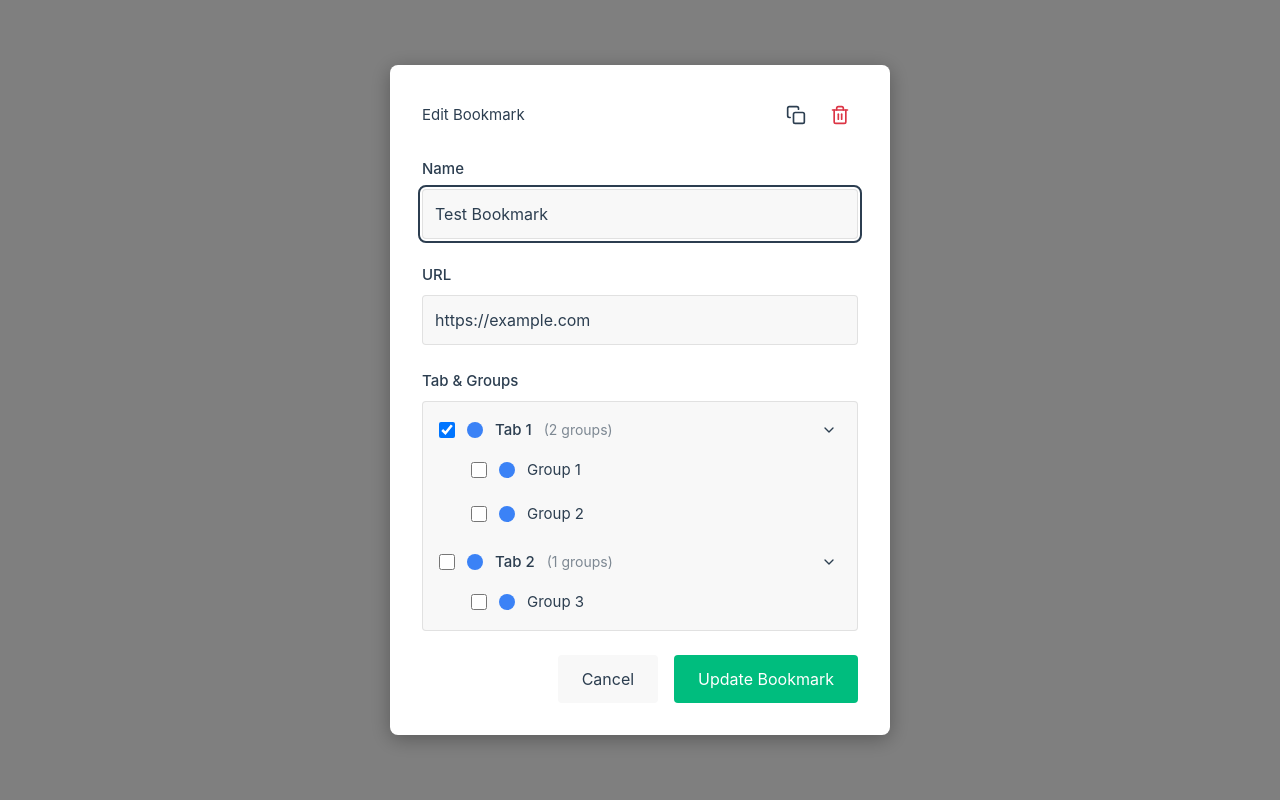
EditBookmarkForm › clears error when cancel is clicked
// Trigger validation error
Clear the field with id "bookmark-name": (640, 214) [422,189,858,239]
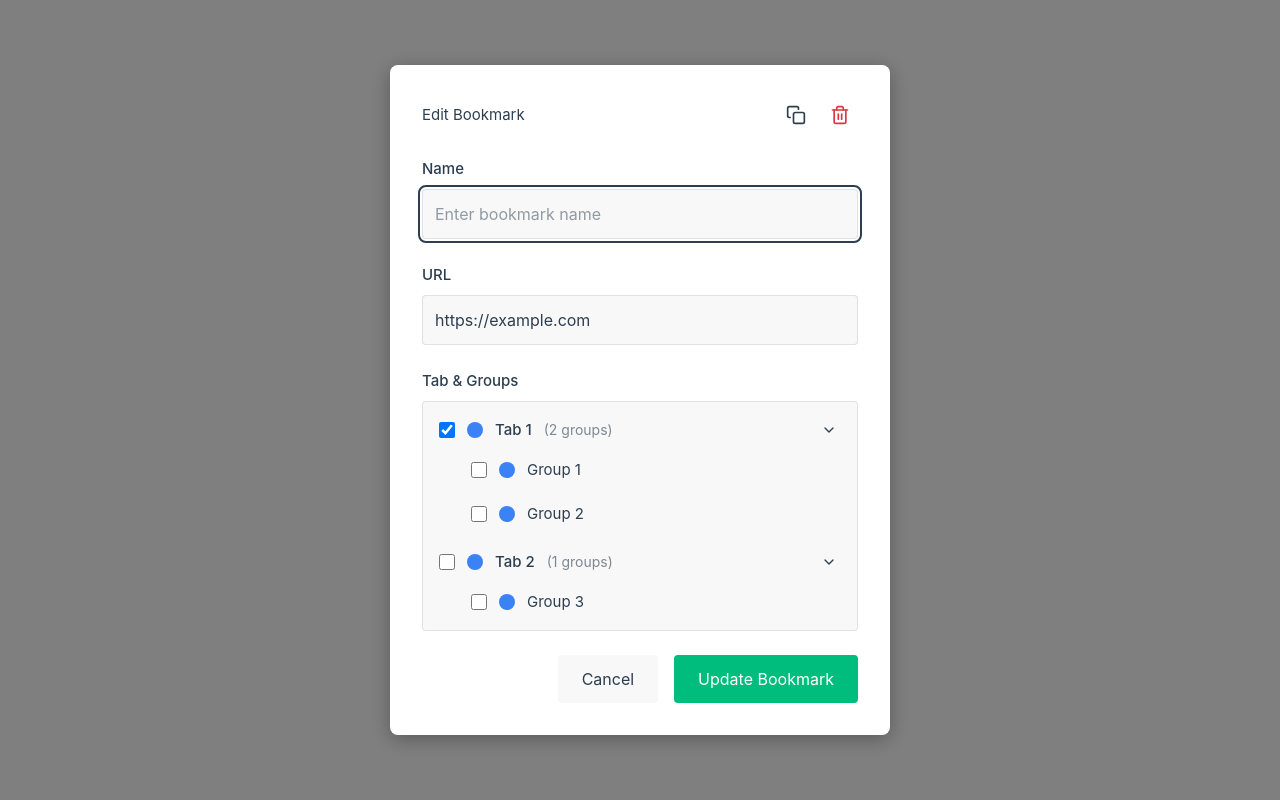
Submit the form, box [422,157,858,703]
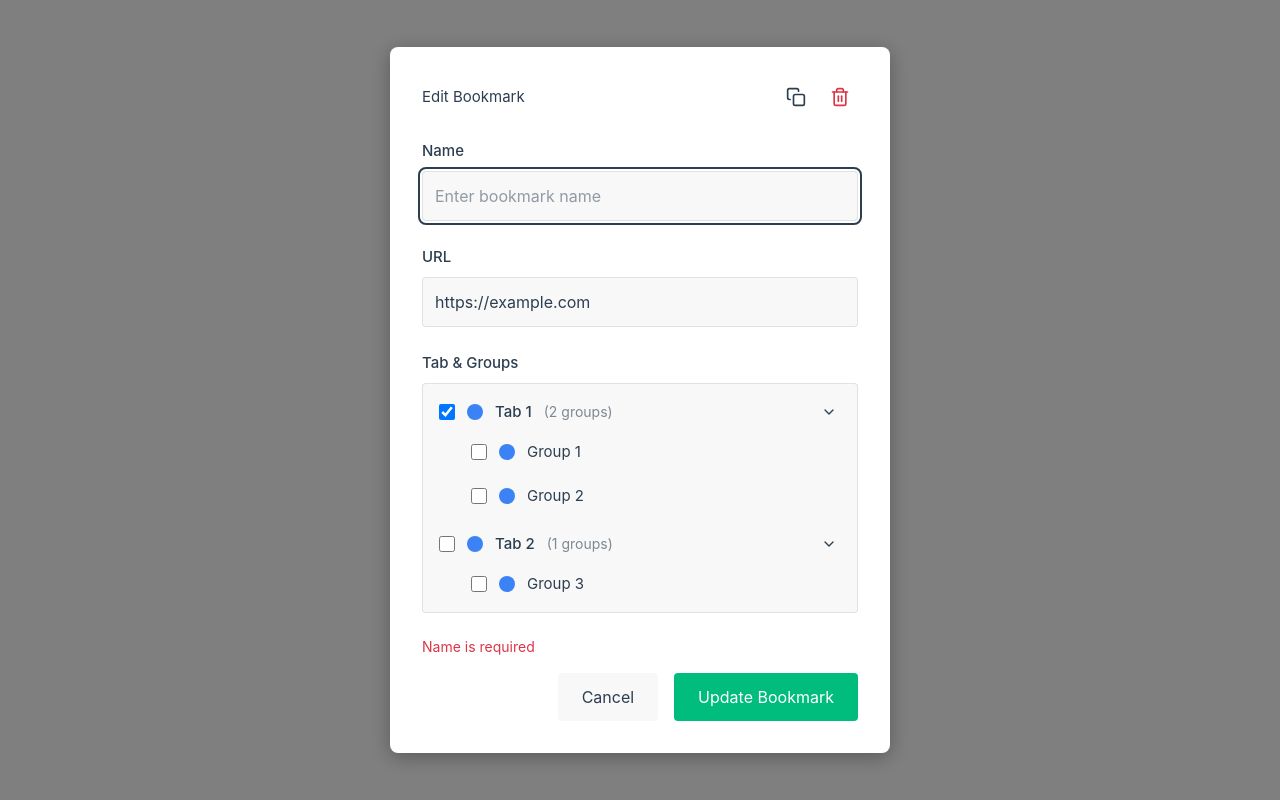
Now the text "Name is required" is shown, box [422,638,535,655]
Click the button "Cancel": (608, 697) [558,673,658,721]
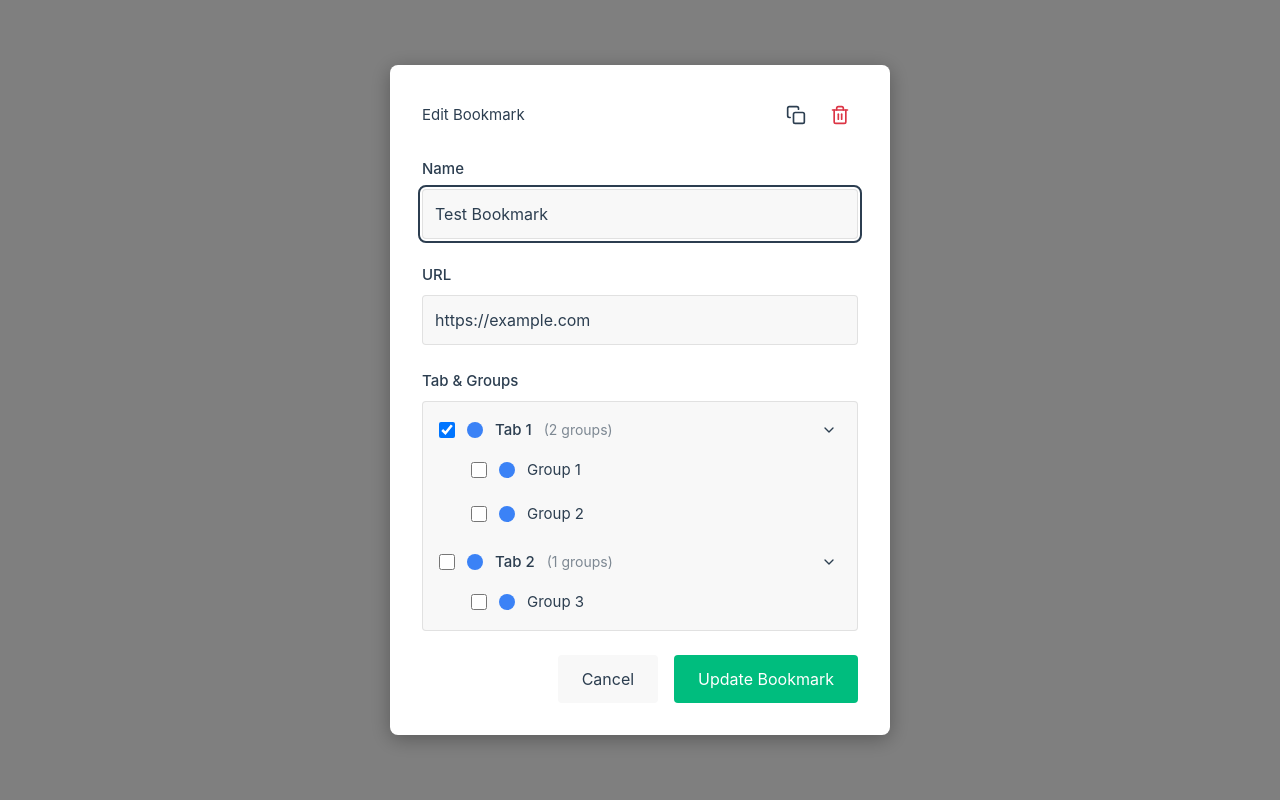
Now the text "Name is required" is gone
